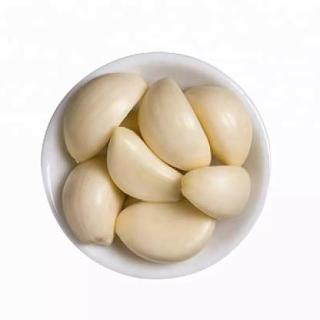Bawang Putih: (63, 71, 149, 164), (139, 77, 213, 173), (117, 202, 218, 265), (109, 127, 186, 204), (184, 85, 253, 168), (64, 157, 123, 248), (183, 167, 253, 221)
